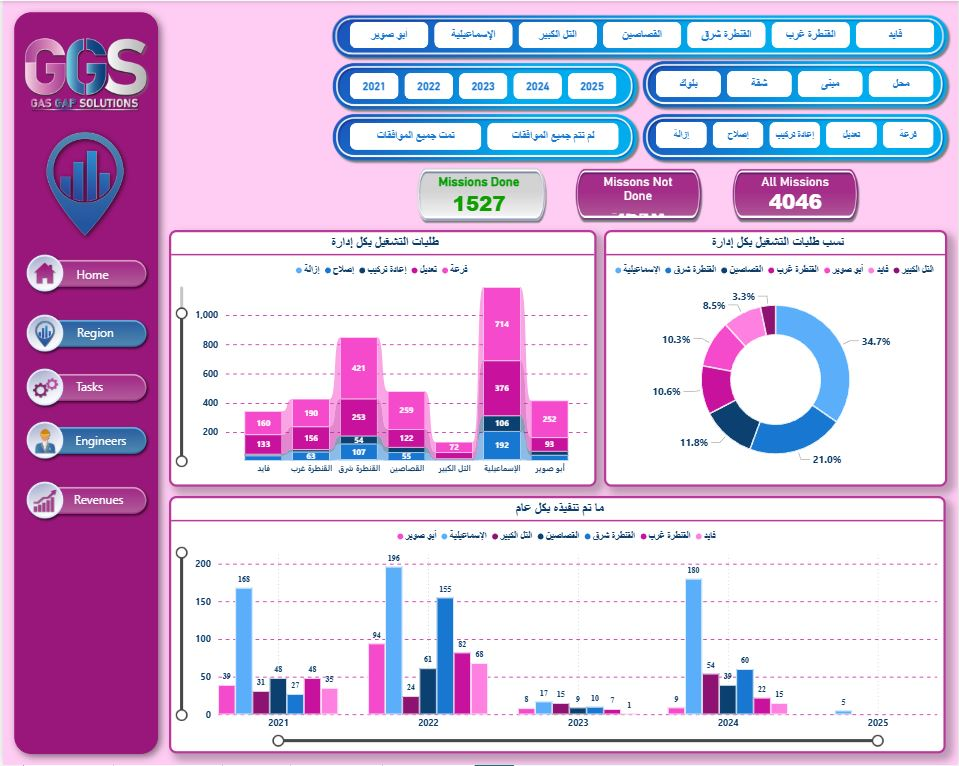

The dashboard page shown, as its layout file describes it:
{"tool":"powerbi","page":{"name":"Region Stats","canvas":[1280,1024],"ordinal":1},"visuals":[{"type":"image","box":[538.5,215.4,205.7,88.6],"z":0},{"type":"image","box":[957.2,216.8,210,87],"z":1000},{"type":"image","box":[428.6,0,851.4,95.7],"z":2000},{"type":"image","box":[428.6,99.1,435.7,168.6],"z":3000},{"type":"image","box":[844.3,99.1,435.7,168.6],"z":4000},{"type":"image","box":[844.3,28.7,435.7,168.6],"z":5000},{"type":"image","box":[428.6,30.2,435.7,168.6],"z":6000},{"type":"columnChart","title":"طلبات التشغيل بكل إدارة","fields":{"Y":["CountNonNull(Customers.Total_To_Do)"],"Category":["Region1.Region_Name"],"Series":["To_Do.To_Do"]},"box":[222.9,307.1,572.9,344.3],"z":7000},{"type":"advancedSlicerVisual","title":"المنطقة - الادارة","fields":{"Values":["Region1.Region_Name"]},"box":[465,28.3,783.3,35],"z":8000},{"type":"advancedSlicerVisual","title":"السنة","fields":{"Values":["Customers.Order_Date.Variation.Date Hierarchy.Year"]},"box":[465,96.2,361.2,35],"z":9000},{"type":"donutChart","title":"نسب طلبات التشغيل بكل إدارة","fields":{"Category":["Region1.Region_Name"],"Y":["CountNonNull(Customers.Total_To_Do)"]},"box":[805.7,307.1,460,344.3],"z":10000},{"type":"advancedSlicerVisual","title":"نوع المبني","fields":{"Values":["Building.Building_Type"]},"box":[875,93.8,373.8,35],"z":11000},{"type":"advancedSlicerVisual","title":"المهمة المطلوبة","fields":{"Values":["To_Do.To_Do"]},"box":[875,162.5,373.8,35],"z":12000},{"type":"advancedSlicerVisual","title":"نوع الموافقة","fields":{"Values":["Customers.Approve"]},"box":[465,163.8,361.2,36.2],"z":13000},{"type":"clusteredColumnChart","title":"ما تم تنفيذه بكل عام","fields":{"Category":["Customers.Order_Date.Variation.Date Hierarchy.Year"],"Y":["Sum(Customers.Misson)"],"Series":["Region1.Region_Name"]},"box":[222.5,663.8,1041.2,345],"z":14000},{"type":"shape","box":[0,0,222.9,1024.3],"z":15000},{"type":"image","box":[15.7,35.7,190,125.7],"z":16000},{"type":"image","box":[15.7,308.4,192,112],"z":17000},{"type":"image","box":[15.7,396.4,192,96],"z":18000},{"type":"image","box":[15.7,468.4,192,96],"z":19000},{"type":"image","box":[15.7,540.4,192,96],"z":20000},{"type":"image","box":[15.7,612.4,192,112],"z":21000},{"type":"actionButton","box":[63.1,334.6,114.3,60],"z":22000},{"type":"actionButton","box":[60,420,127.1,48.6],"z":23000},{"type":"actionButton","box":[60,484.3,111.4,64.3],"z":24000},{"type":"actionButton","box":[58.6,555.7,144.3,64.3],"z":25000},{"type":"actionButton","box":[64.3,643.2,128,48],"z":26000},{"type":"image","box":[746.3,216.8,210,86.7],"z":27000},{"type":"card","title":"All Missions","fields":{"Values":["CountNonNull(Cost_Profit.Mission_Not_Done)"]},"box":[992.8,232.5,137.1,57.1],"z":28000},{"type":"card","title":"Missons Not Done","fields":{"Values":["Sum(Cost_Profit.Mission_Not_Done)"]},"box":[774.2,232.5,152.9,57.1],"z":29000},{"type":"card","title":"Missions Done","fields":{"Values":["Sum(Cost_Profit.Mission_Done)"]},"box":[572.8,232.5,131.4,64.3],"z":30000},{"type":"image","box":[23.3,163.3,176.7,165],"z":31000}]}

Visuals, with their boxes on the page's 1280x1024 design canvas (x1, y1, x2, y2). These are canvas units, not pixel positions in the 959x766 screenshot, which may show the page scaled, cropped or inside an application window:
image: bbox(538, 215, 744, 304)
image: bbox(957, 217, 1167, 304)
image: bbox(429, 0, 1280, 96)
image: bbox(429, 99, 864, 268)
image: bbox(844, 99, 1280, 268)
image: bbox(844, 29, 1280, 197)
image: bbox(429, 30, 864, 199)
"طلبات التشغيل بكل إدارة" columnChart: bbox(223, 307, 796, 651)
"المنطقة - الادارة" advancedSlicerVisual: bbox(465, 28, 1248, 63)
"السنة" advancedSlicerVisual: bbox(465, 96, 826, 131)
"نسب طلبات التشغيل بكل إدارة" donutChart: bbox(806, 307, 1266, 651)
"نوع المبني" advancedSlicerVisual: bbox(875, 94, 1249, 129)
"المهمة المطلوبة" advancedSlicerVisual: bbox(875, 162, 1249, 198)
"نوع الموافقة" advancedSlicerVisual: bbox(465, 164, 826, 200)
"ما تم تنفيذه بكل عام" clusteredColumnChart: bbox(222, 664, 1264, 1009)
shape: bbox(0, 0, 223, 1024)
image: bbox(16, 36, 206, 161)
image: bbox(16, 308, 208, 420)
image: bbox(16, 396, 208, 492)
image: bbox(16, 468, 208, 564)
image: bbox(16, 540, 208, 636)
image: bbox(16, 612, 208, 724)
actionButton: bbox(63, 335, 177, 395)
actionButton: bbox(60, 420, 187, 469)
actionButton: bbox(60, 484, 171, 549)
actionButton: bbox(59, 556, 203, 620)
actionButton: bbox(64, 643, 192, 691)
image: bbox(746, 217, 956, 304)
"All Missions" card: bbox(993, 232, 1130, 290)
"Missons Not Done" card: bbox(774, 232, 927, 290)
"Missions Done" card: bbox(573, 232, 704, 297)
image: bbox(23, 163, 200, 328)
